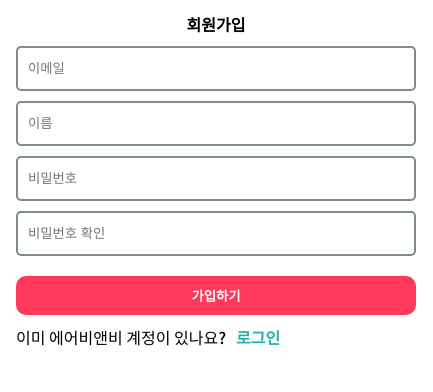
Test: UserSignupPage › Interactions › 회원가입 실패 후, 에러 메시지 표시
In the field with placeholder "이메일": (216, 68) [16,46,416,91], type "my-email@naver.com"
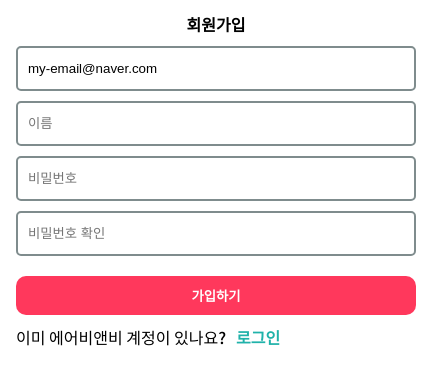
In the field with placeholder "이름": (216, 124) [16,101,416,146], type "홍길동"
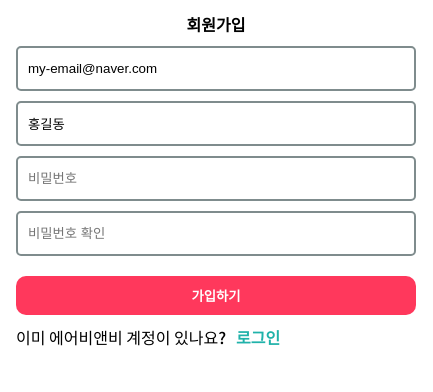
In the password field with placeholder "비밀번호": (216, 178) [16,156,416,201], type "P4ssword"
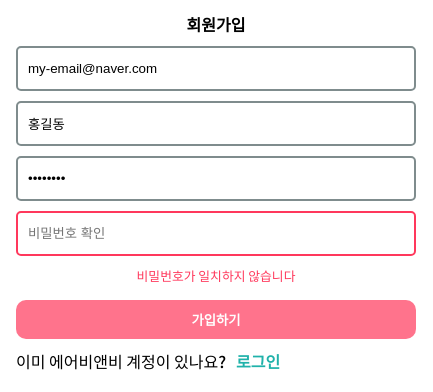
In the password field with placeholder "비밀번호 확인": (216, 234) [16,211,416,256], type "P4ssword"
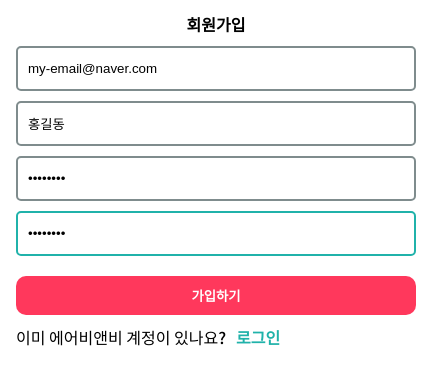
Click the button "가입하기": (216, 296) [16,276,416,315]
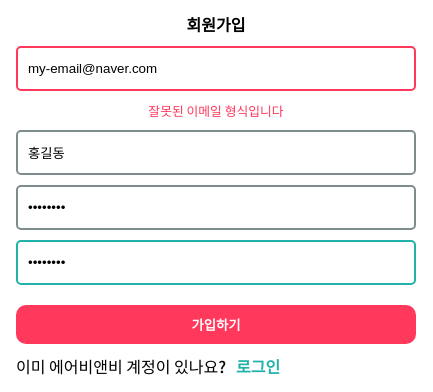
Result: the text "잘못된 이메일 형식입니다" is shown at [148,101,284,120]
